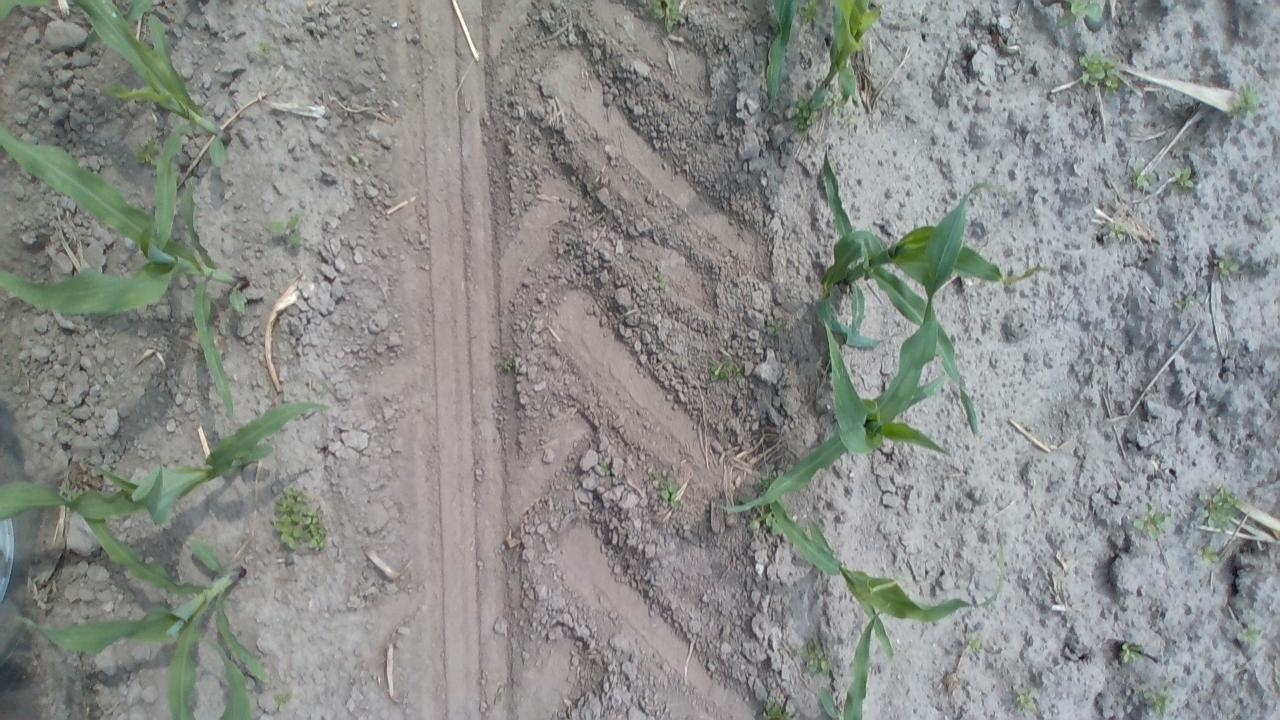Maize: (712, 174, 1006, 520), (0, 113, 253, 430), (813, 146, 1054, 444), (6, 484, 276, 720), (0, 396, 336, 540), (49, 0, 238, 252), (764, 478, 1010, 657), (757, 0, 887, 143), (816, 592, 900, 720), (0, 0, 50, 23)
Weeds: (271, 481, 331, 556), (1201, 479, 1244, 534), (1077, 50, 1122, 94), (789, 634, 836, 676), (649, 470, 688, 513), (1130, 503, 1172, 542), (1220, 80, 1258, 123), (1060, 0, 1104, 33), (268, 209, 306, 246), (1008, 682, 1046, 719), (1142, 681, 1180, 717), (648, 0, 688, 33), (706, 351, 744, 384), (750, 464, 784, 497), (790, 93, 818, 132), (131, 132, 161, 168), (750, 506, 782, 538), (1127, 160, 1157, 194), (266, 678, 294, 714), (1234, 621, 1266, 652), (757, 696, 797, 720), (1116, 635, 1146, 666), (1170, 164, 1198, 197), (1214, 252, 1242, 284), (1103, 212, 1131, 244), (959, 630, 989, 659), (797, 0, 825, 30), (248, 36, 276, 64), (822, 91, 849, 119), (1197, 540, 1222, 569), (588, 456, 615, 478), (768, 316, 786, 340), (348, 150, 368, 170), (652, 270, 669, 292), (1258, 208, 1274, 231), (1180, 295, 1200, 313), (501, 355, 515, 375)
